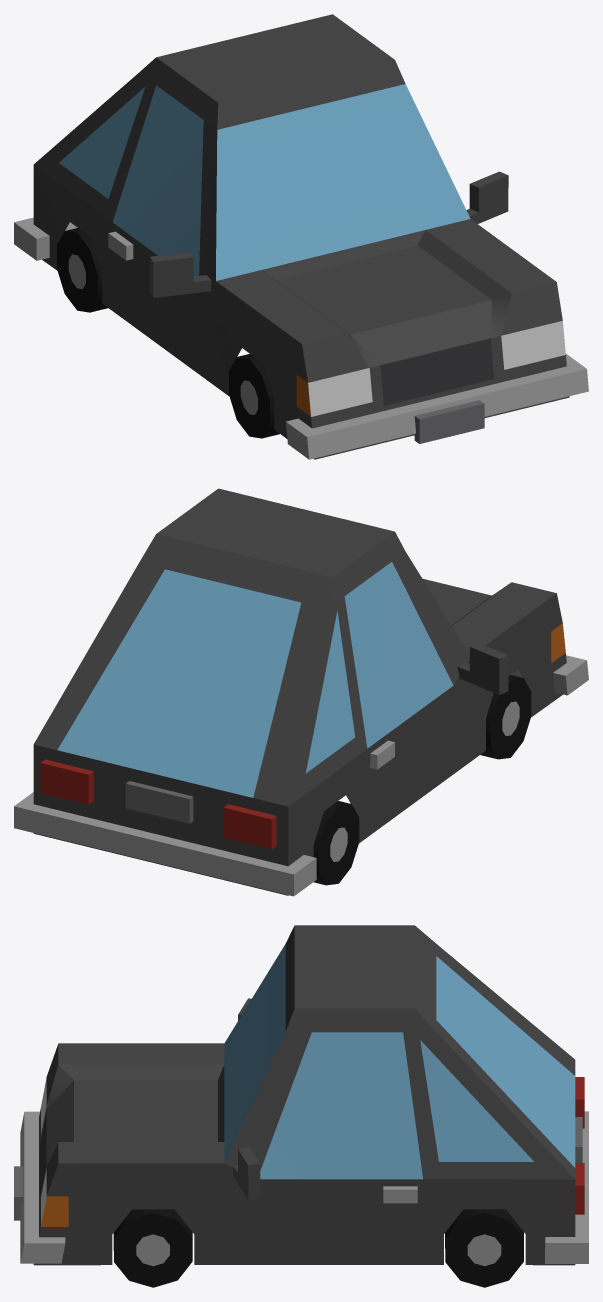
Rendered from Car_06_gray.fbx.
3 renders of one model, top to bottom at view 1: azimuth 30°, elevation 25°; view 2: azimuth 150°, elevation 25°; view 3: azimuth 270°, elevation 25°, orthographic. The views are drawn at different scales.
Parts seen in each view (by area): view 1: Car_06_gray; view 2: Car_06_gray; view 3: Car_06_gray.
Boxes of the visible parts, left/top/right/bottom form: Car_06_gray: left=14, top=14, right=588, bottom=459; Car_06_gray: left=14, top=488, right=588, bottom=896; Car_06_gray: left=14, top=925, right=588, bottom=1287.
Bounding box in the file's own units: 60.1 × 43.58 × 87.47.
